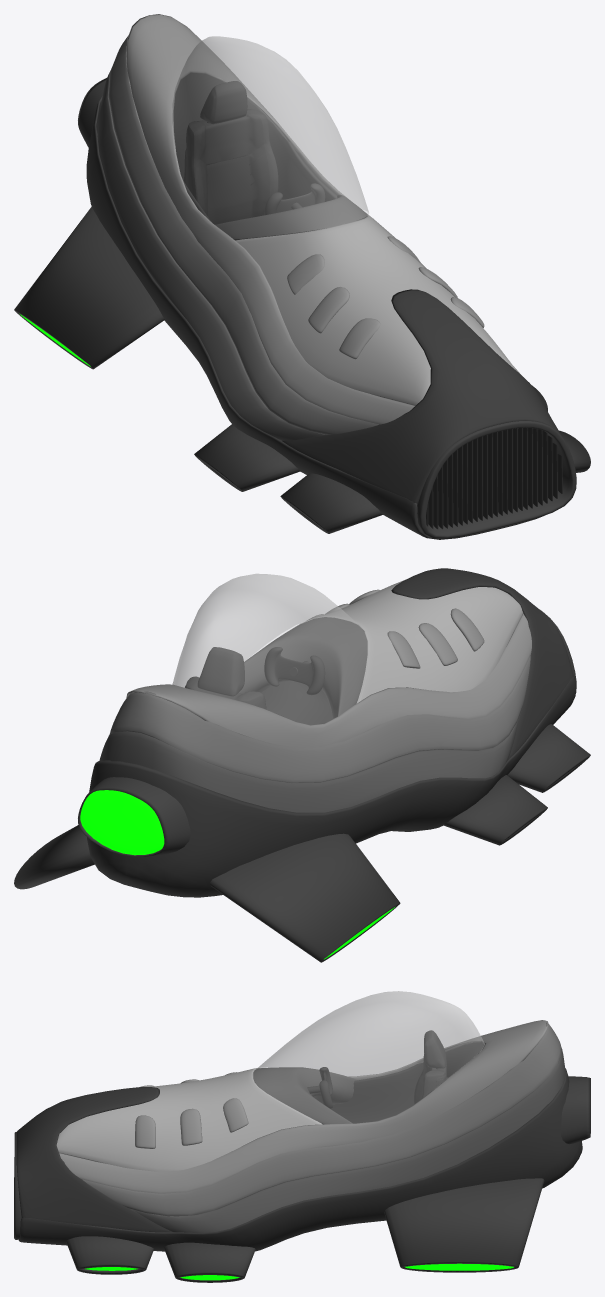
3 views of the same model, one above another, from view 1: azimuth 30°, elevation 25°; view 2: azimuth 150°, elevation 25°; view 3: azimuth 270°, elevation 25° (orthographic). The views are drawn at different scales.
Parts seen in each view (by area): view 1: body_paint_base, body_glass, body_paint_metal, body_paint_fade_1, body_paint_fade_top, body_paint_fade_3, body_paint_fade_2; view 2: body_paint_base, body_paint_metal, body_glass, body_paint_fade_3, body_paint_fade_2, body_paint_fade_1, body_paint_fade_top, body_light_glow; view 3: body_paint_base, body_glass, body_paint_metal, body_paint_fade_1, body_paint_fade_3, body_paint_fade_2, body_paint_fade_top, body_light_glow.
Boxes of the visible parts, left/top/right/bottom form: body_paint_base: left=86, top=72, right=575, bottom=539; body_glass: left=172, top=36, right=368, bottom=238; body_paint_metal: left=14, top=78, right=590, bottom=538; body_paint_fade_1: left=126, top=14, right=522, bottom=424; body_paint_fade_top: left=235, top=214, right=517, bottom=405; body_paint_fade_3: left=97, top=70, right=367, bottom=440; body_paint_fade_2: left=108, top=15, right=378, bottom=434; body_paint_base: left=87, top=568, right=576, bottom=897; body_paint_metal: left=14, top=610, right=590, bottom=962; body_glass: left=172, top=573, right=368, bottom=724; body_paint_fade_3: left=99, top=617, right=519, bottom=812; body_paint_fade_2: left=110, top=656, right=530, bottom=782; body_paint_fade_1: left=126, top=589, right=531, bottom=747; body_paint_fade_top: left=289, top=579, right=523, bottom=703; body_light_glow: left=80, top=790, right=394, bottom=959; body_paint_base: left=16, top=1030, right=582, bottom=1251; body_glass: left=252, top=991, right=484, bottom=1124; body_paint_metal: left=14, top=1076, right=590, bottom=1282; body_paint_fade_1: left=59, top=1020, right=548, bottom=1193; body_paint_fade_3: left=133, top=1047, right=565, bottom=1232; body_paint_fade_2: left=83, top=1022, right=561, bottom=1216; body_paint_fade_top: left=56, top=1068, right=322, bottom=1171; body_light_glow: left=85, top=1263, right=513, bottom=1280.
Bounding box in the file's own units: 2 × 1.81 × 4.05.
